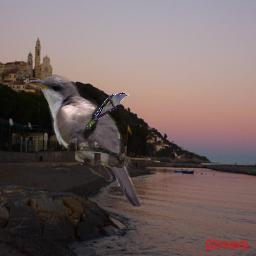Cuckoo: (25, 72, 141, 211), (87, 92, 130, 129)
